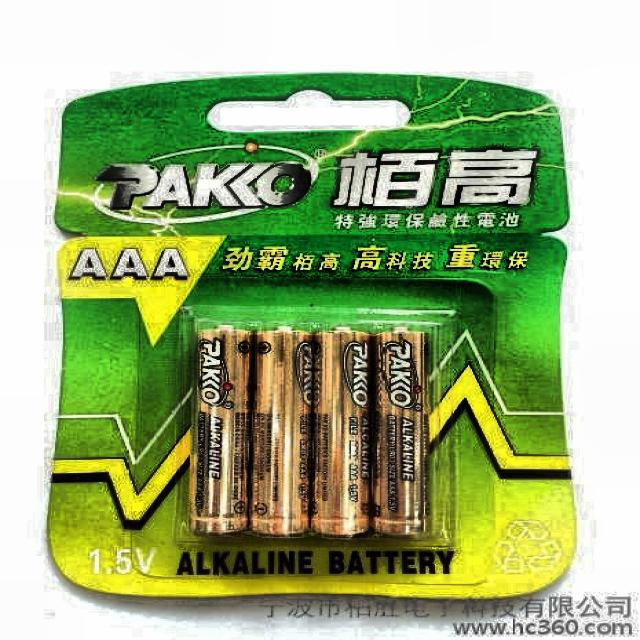Non-Valuable Waste - Batteries: (249, 329, 313, 536), (190, 326, 253, 534), (312, 330, 371, 537), (373, 329, 427, 536)
